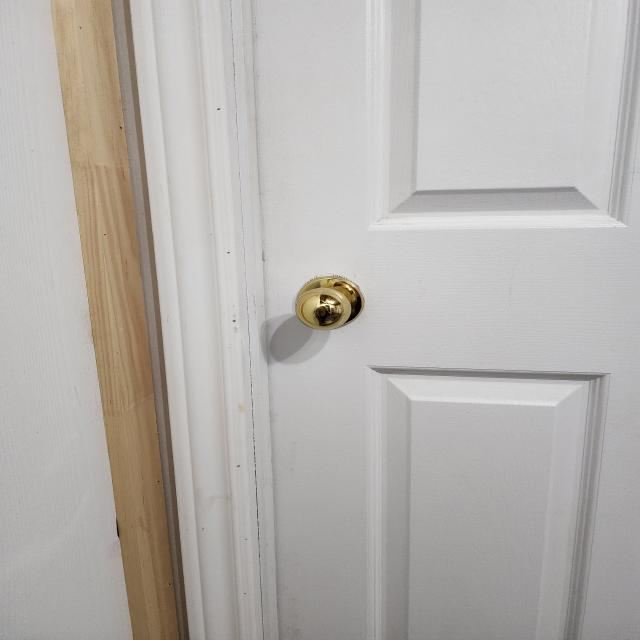door-knob: (294, 276, 365, 332)
